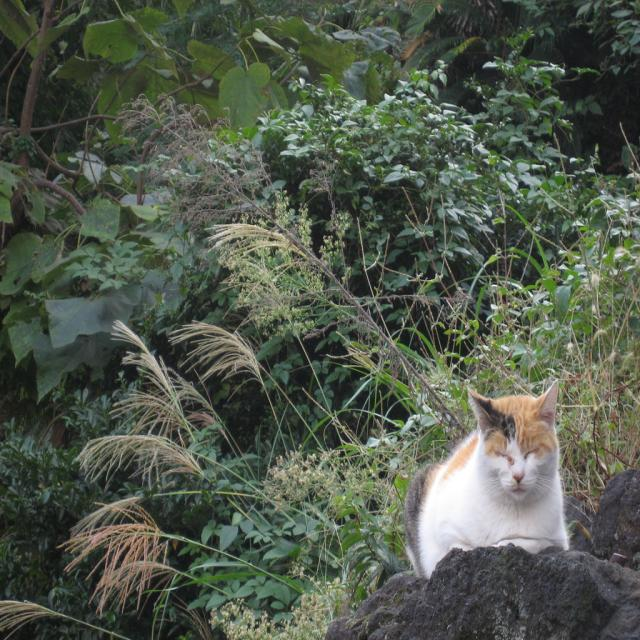cat: (403, 379, 571, 581)
